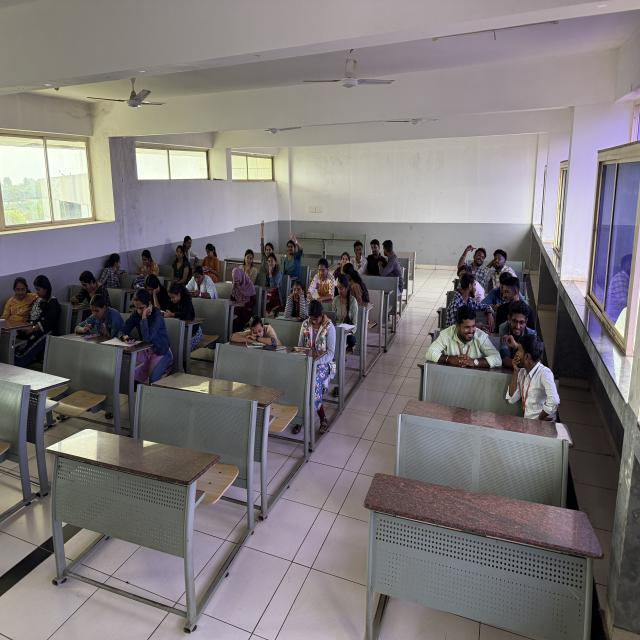Hand Rising: (255, 215, 278, 275)
Reading: (307, 256, 336, 305)
Sleeping: (224, 314, 285, 347)
Using Phone: (117, 288, 171, 358), (297, 298, 339, 369), (161, 280, 206, 338), (75, 294, 127, 339), (69, 270, 119, 311), (227, 266, 262, 313), (178, 264, 218, 300)
